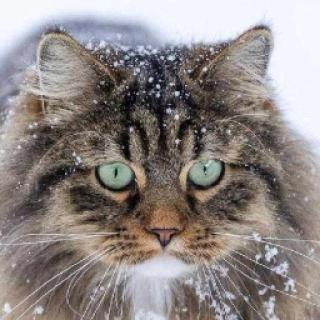cat: (33, 29, 281, 287)
nose: (138, 193, 188, 250)
